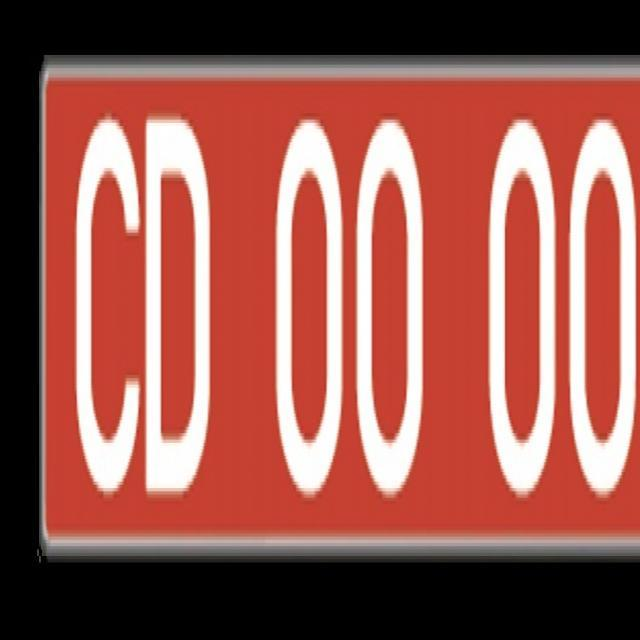licenseplate: (0, 11, 640, 602)
